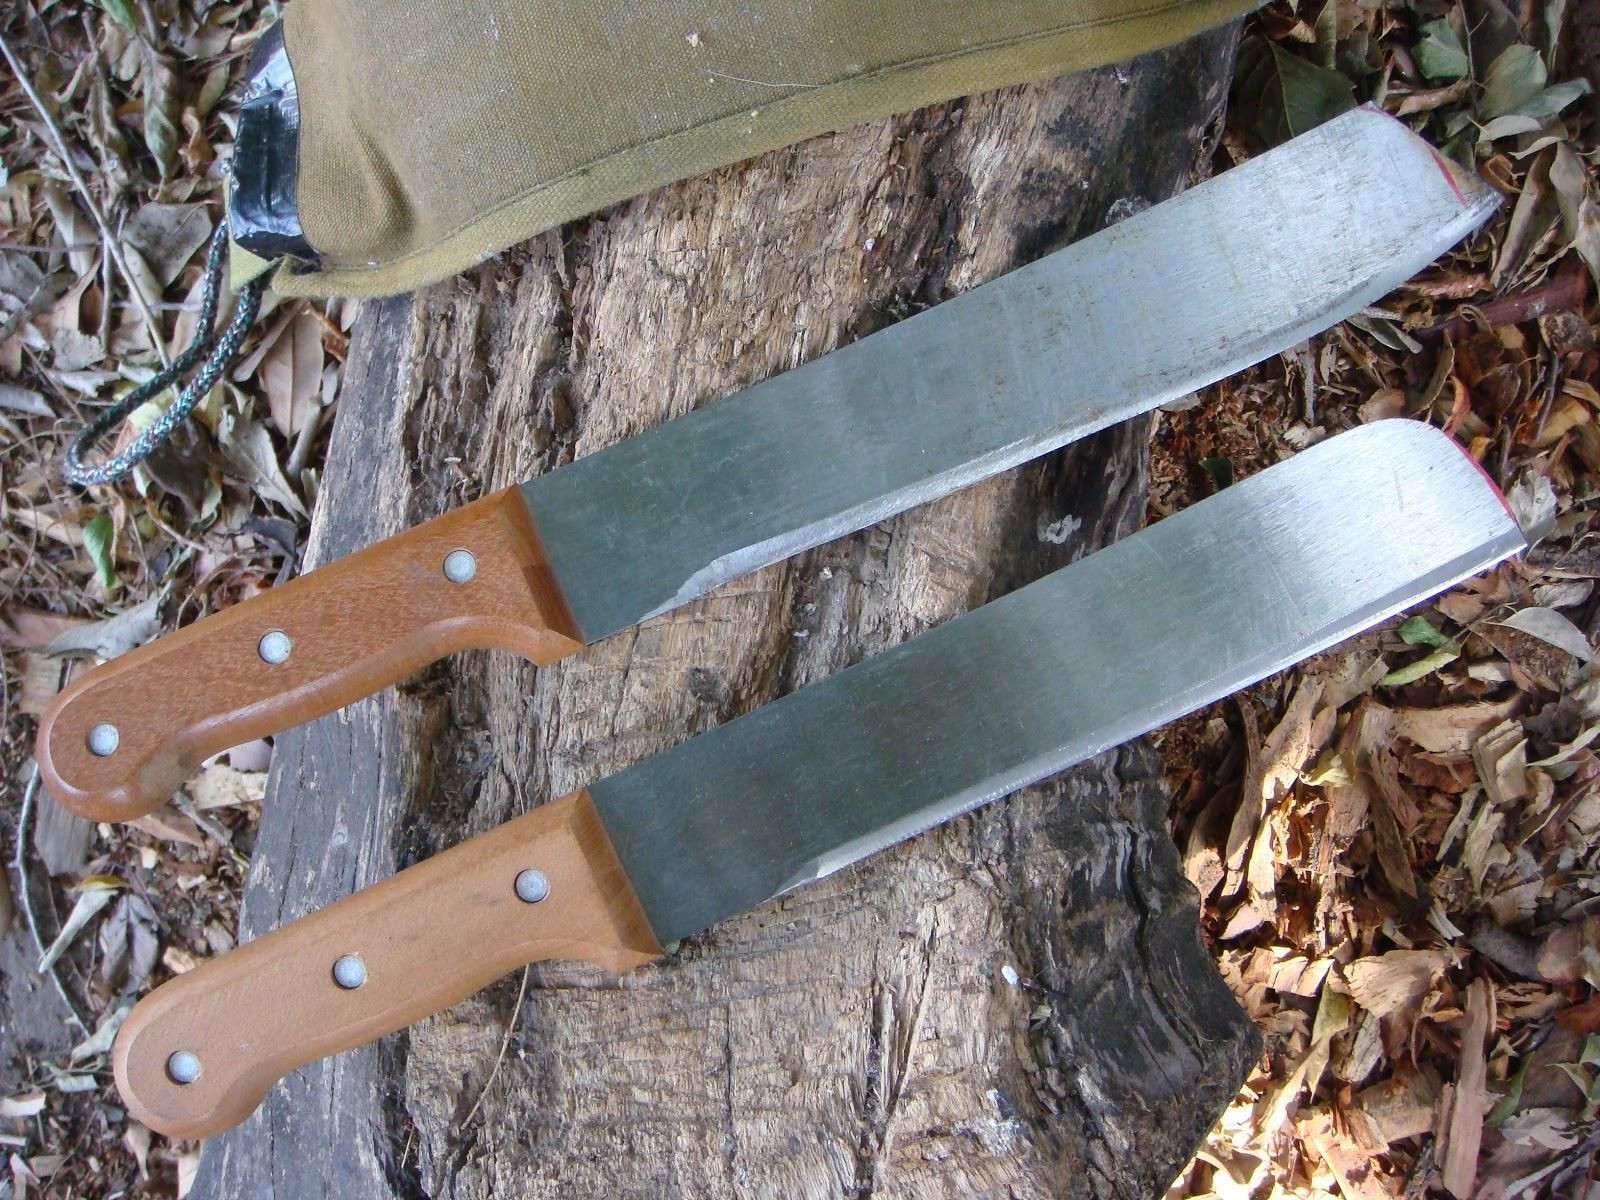facao: (43, 378, 1563, 1200), (0, 66, 1560, 855)
